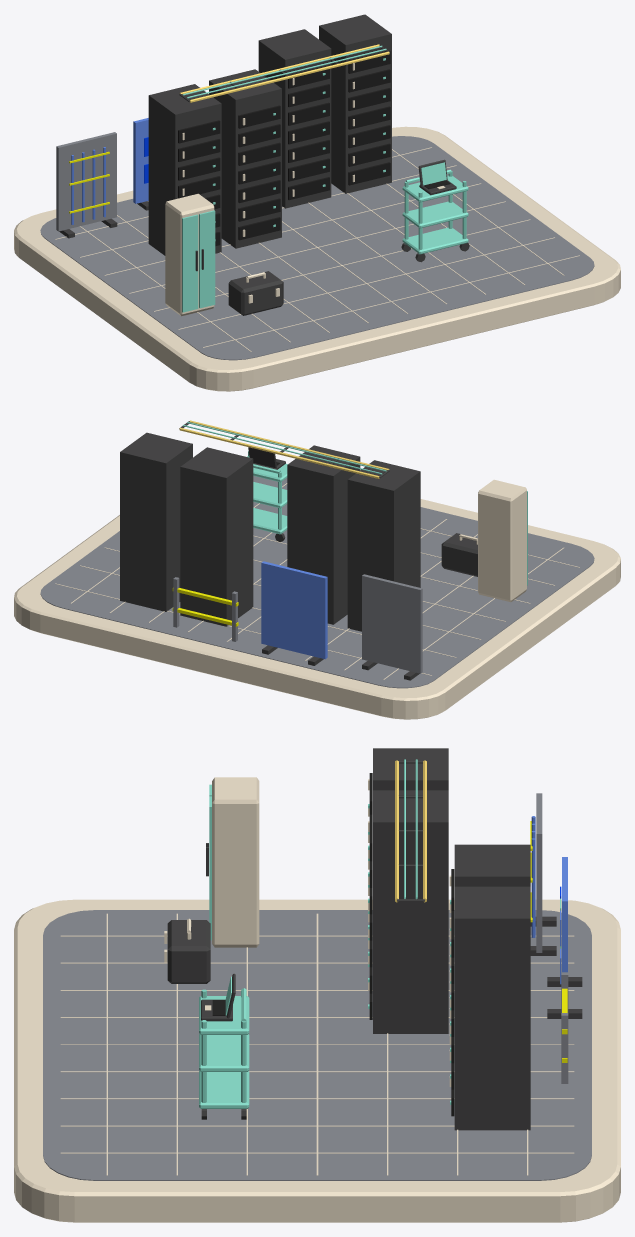
The model's file is room.fbx.
3 renders of one model, top to bottom at view 1: azimuth 30°, elevation 25°; view 2: azimuth 150°, elevation 25°; view 3: azimuth 270°, elevation 25°, orthographic. The views are drawn at different scales.
Parts seen in each view (by area): view 1: COM-02 Floor Surface, COM-01 Rounded Base Direct, Server case, Server case.003, Server case.001, Server case.002, Panel, Equipment case, Case, Door, Door.001, Panel.001 (+28 smaller); view 2: COM-02 Floor Surface, COM-01 Rounded Base Direct, Server case.002, Server case.003, Server case, Server case.001, Panel.001, Equipment case, Panel, Case, Cable rail.001, Tray (+4 smaller); view 3: COM-02 Floor Surface, COM-01 Rounded Base Direct, Server case.003, Server case.001, Equipment case, Server case.002, Server case, Case, Tray.001, Tray, Panel, Tray.002 (+6 smaller).
Boxes of the visible parts, x1,y1,x2,y2 form: COM-02 Floor Surface: [40, 136, 594, 360]; COM-01 Rounded Base Direct: [14, 126, 620, 391]; Server case: [148, 84, 221, 255]; Server case.003: [319, 14, 391, 193]; Server case.001: [209, 69, 281, 248]; Server case.002: [258, 29, 331, 208]; Panel: [56, 132, 116, 231]; Equipment case: [165, 193, 214, 316]; Case: [228, 271, 283, 315]; Door: [182, 214, 198, 312]; Door.001: [199, 210, 215, 308]; Panel.001: [133, 118, 148, 203]; COM-02 Floor Surface: [40, 476, 594, 688]; COM-01 Rounded Base Direct: [14, 456, 620, 719]; Server case.002: [180, 447, 253, 626]; Server case.003: [120, 432, 192, 611]; Server case: [347, 460, 420, 631]; Server case.001: [287, 445, 360, 624]; Panel.001: [261, 561, 327, 659]; Equipment case: [478, 479, 526, 602]; Panel: [362, 574, 422, 673]; Case: [441, 533, 477, 576]; Cable rail.001: [179, 427, 379, 478]; Tray: [253, 508, 287, 534]; COM-02 Floor Surface: [43, 910, 591, 1180]; COM-01 Rounded Base Direct: [14, 899, 620, 1222]; Server case.003: [454, 886, 530, 1130]; Server case.001: [373, 790, 448, 1033]; Equipment case: [212, 777, 259, 947]; Server case.002: [454, 844, 530, 886]; Server case: [373, 748, 448, 790]; Case: [167, 920, 210, 983]; Tray.001: [199, 1034, 249, 1071]; Tray: [199, 1071, 249, 1108]; Panel: [536, 793, 542, 952]; Tray.002: [199, 996, 249, 1034].
Bounding box in the file's own units: 600 × 235 × 520.
